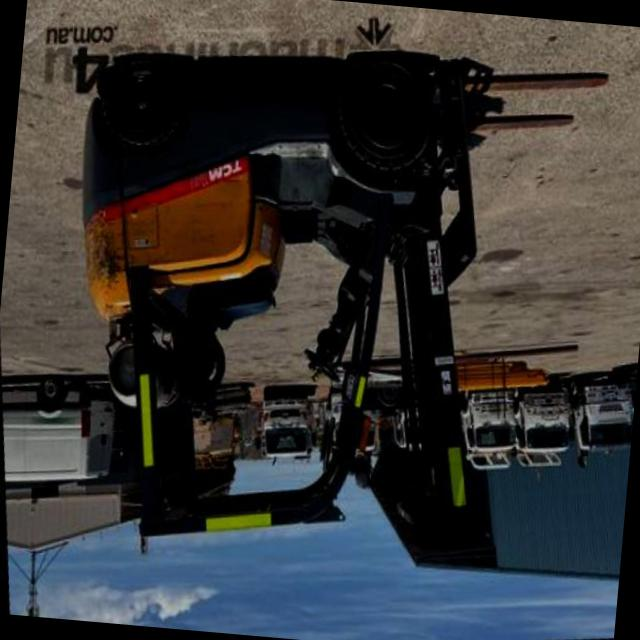forklift: (26, 0, 535, 597)
